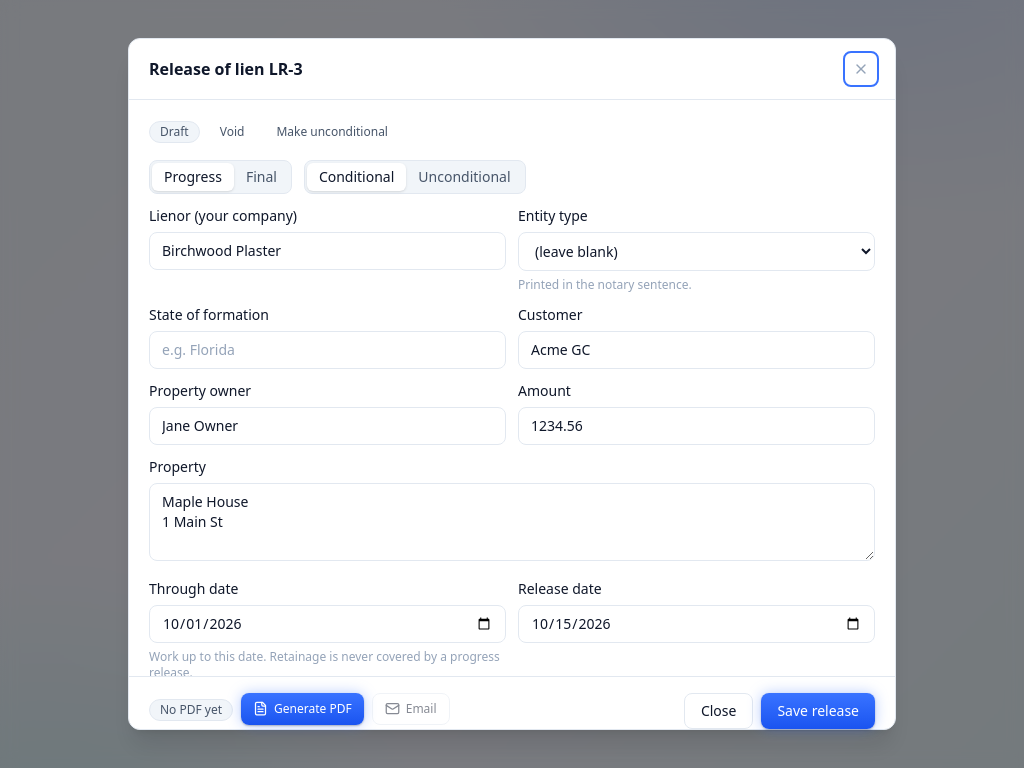
it: LienReleaseEditor › switching to unconditional shows the warning and hides the condition box
Click the button "Unconditional" at (464, 177), box [406,163,522,191]
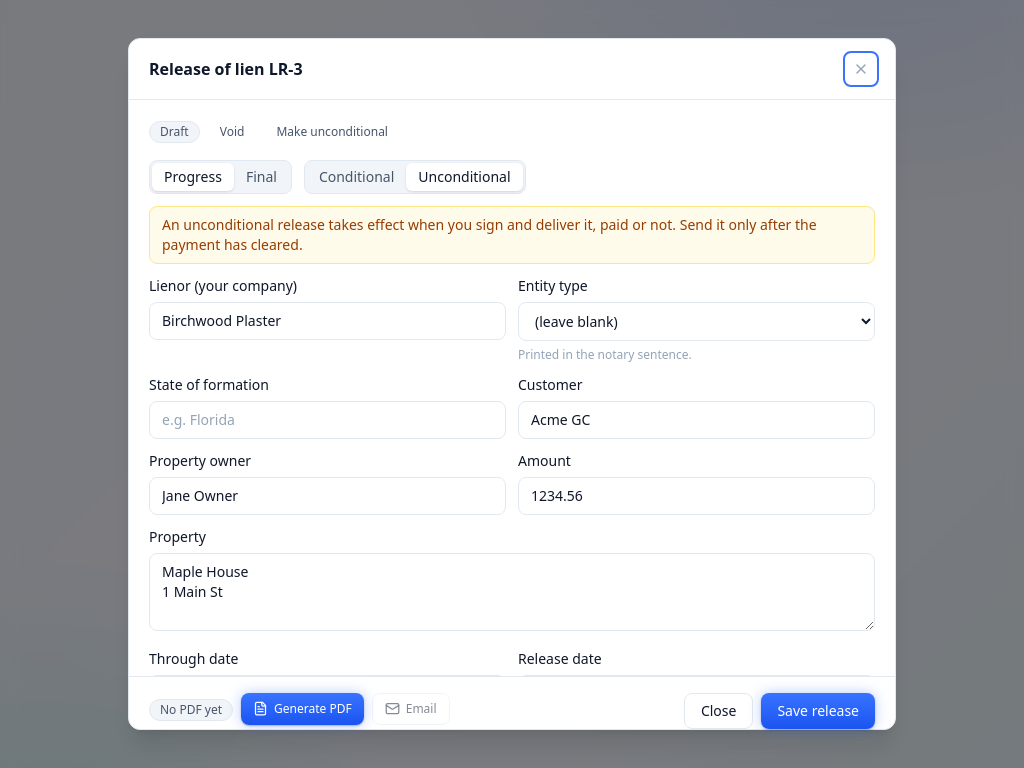
Check: the element with test id "lien-preview" does not show "CONDITIONAL"
Check: the message with test id "lien-unconditional-warning" shows "paid or not", box [162,215,817,254]
